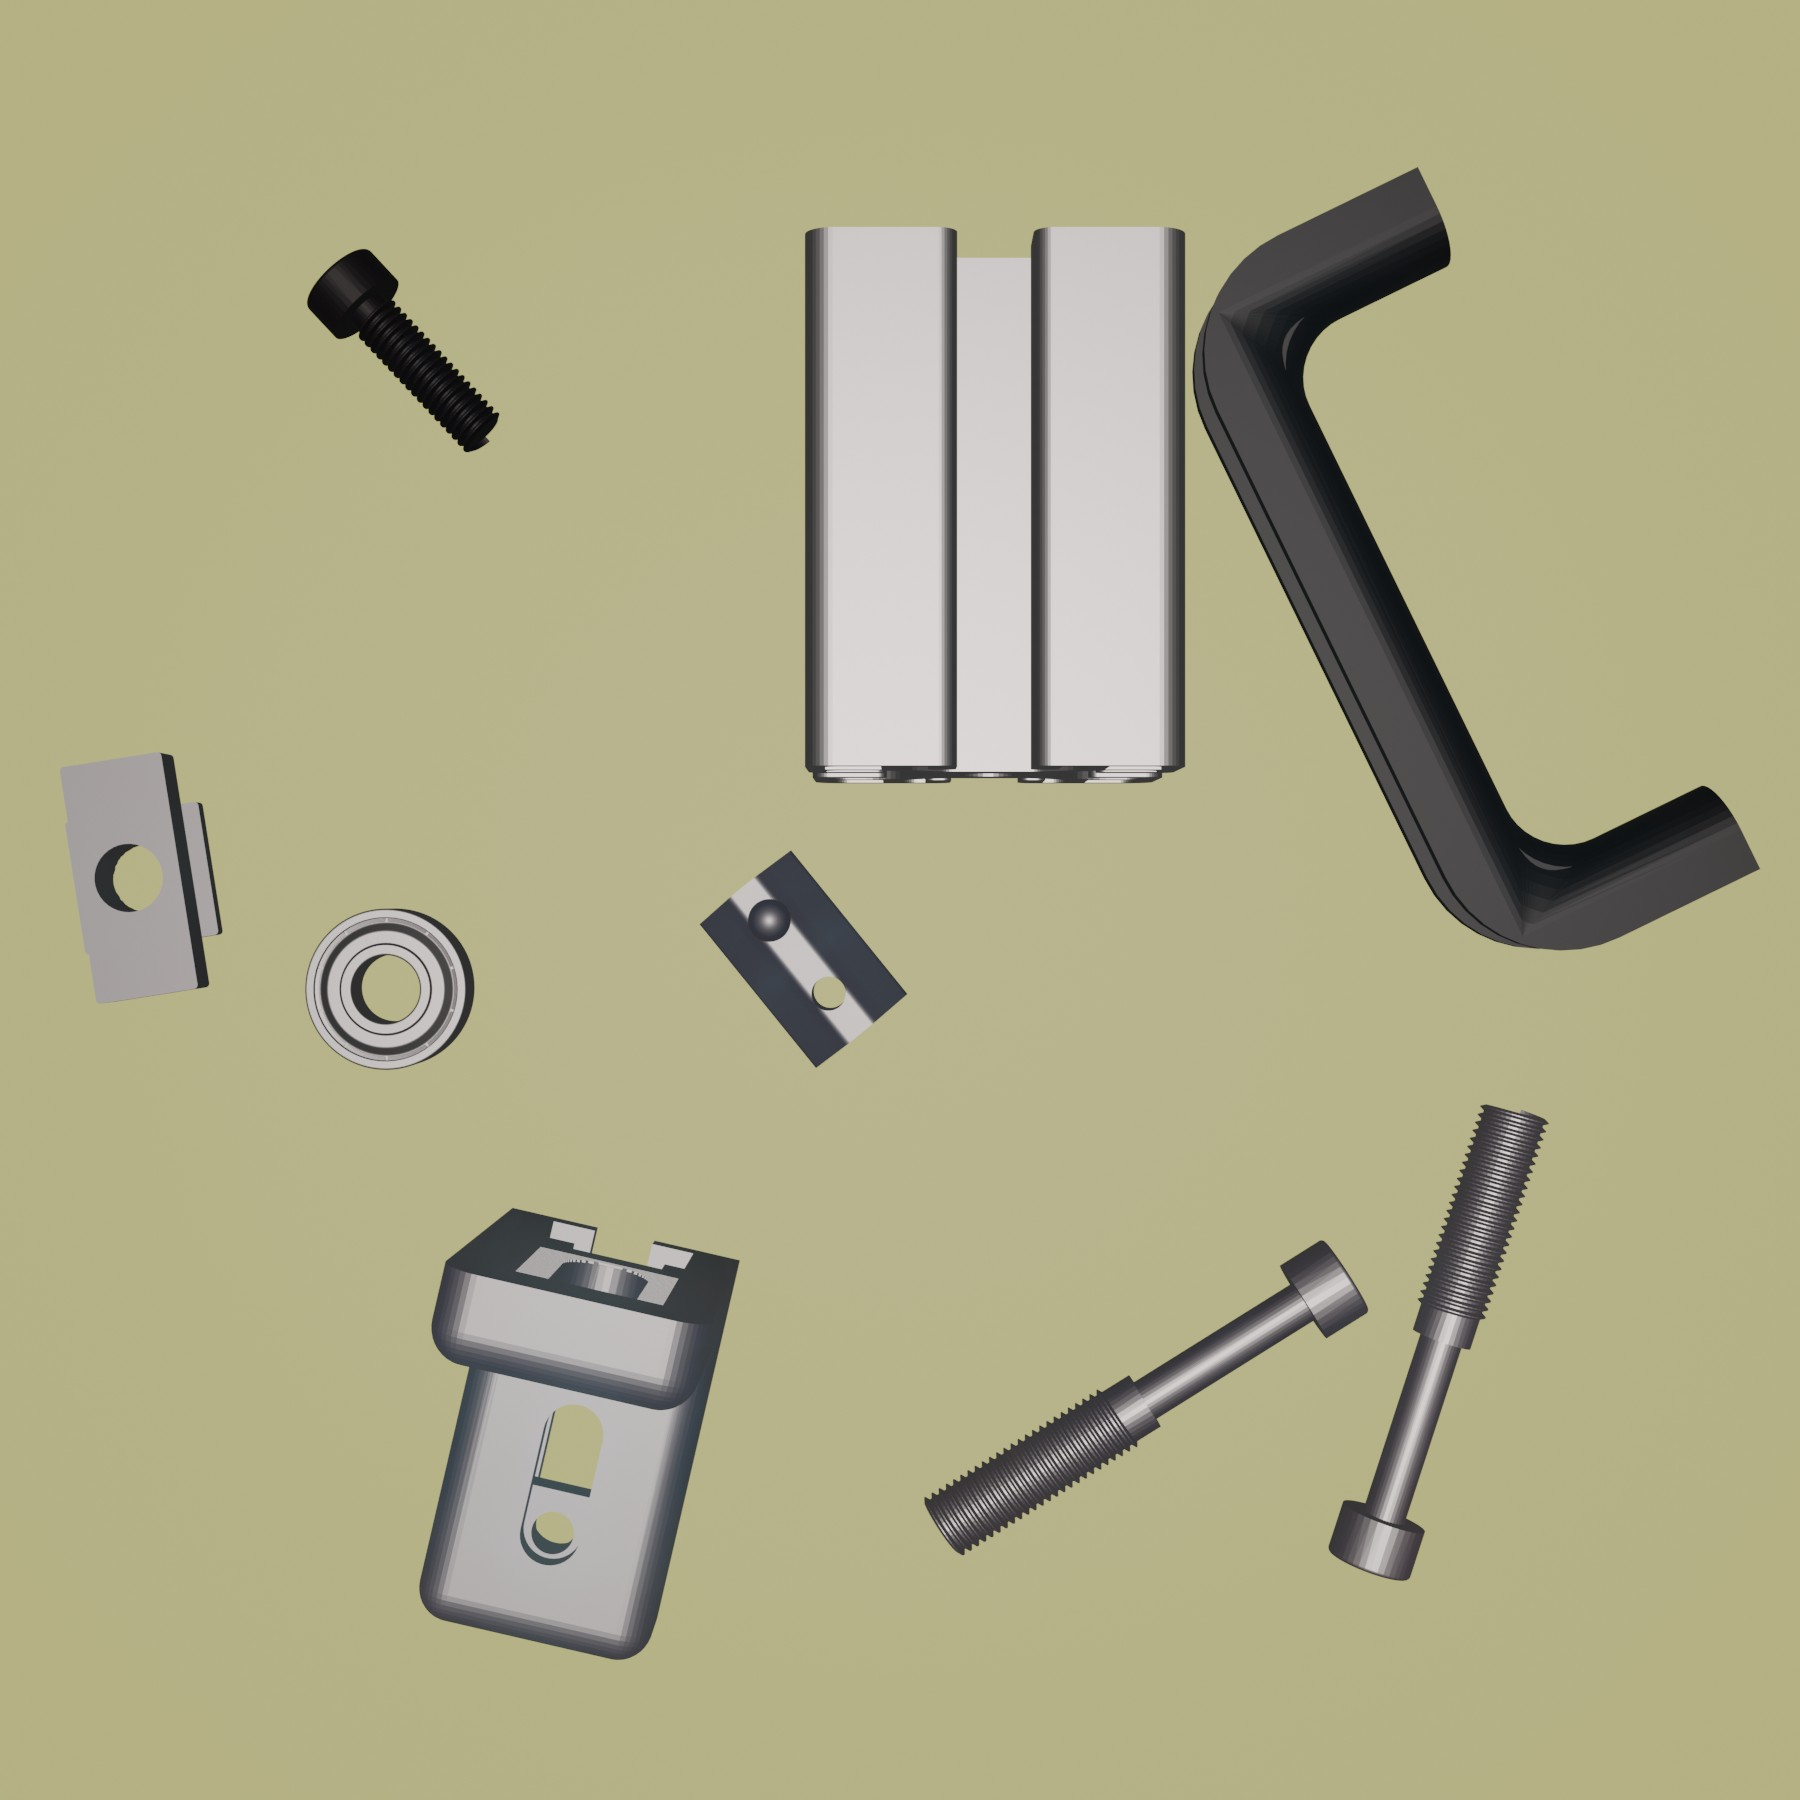Aluminium Extension: (799, 219, 1190, 786)
Ball Bearing: (302, 903, 476, 1071)
Multiwinkel: (415, 1203, 742, 1662)
Pull Handle: (1190, 162, 1760, 953)
Shoulder Socket Head Cap Screw: (921, 1238, 1370, 1559), (1327, 1101, 1549, 1582)
Socket Head Cap Screw: (303, 246, 501, 453)
T Nut Square: (54, 747, 227, 1007)
T Spring Nut: (696, 846, 907, 1070)
